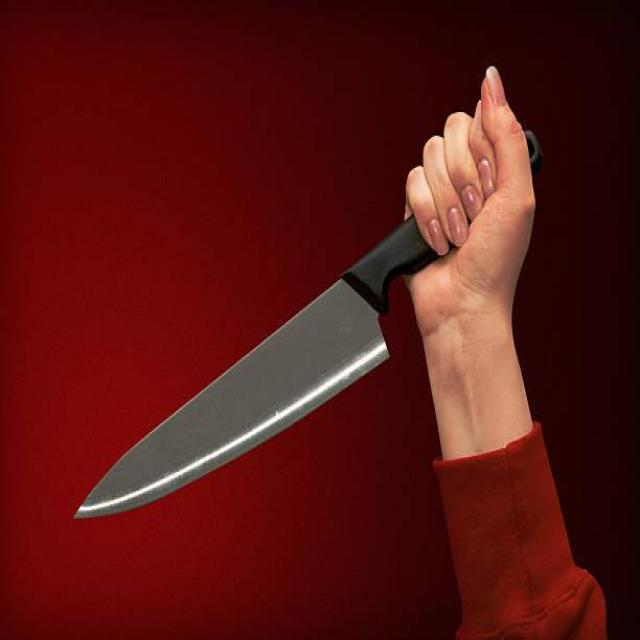faca: (56, 63, 542, 537)
